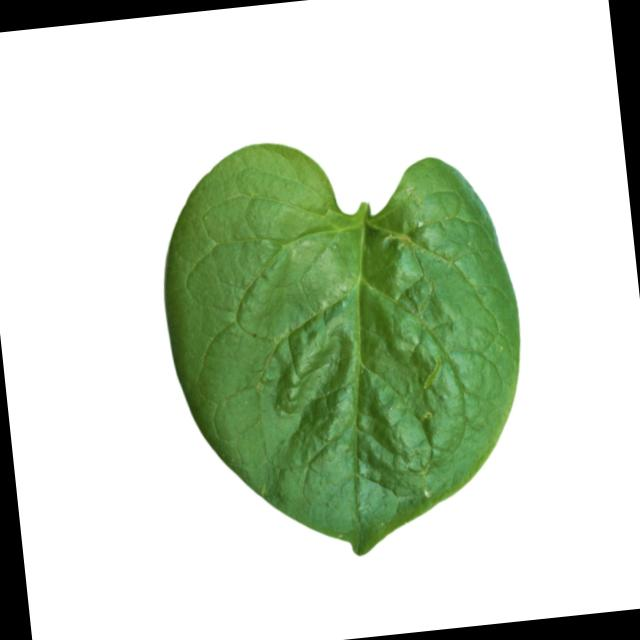Medicinal-Basale: (148, 116, 543, 575)
